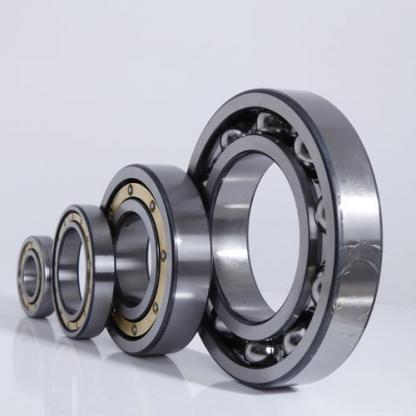FOD: (176, 84, 390, 392), (94, 159, 215, 364), (48, 200, 117, 342), (13, 232, 58, 325)
